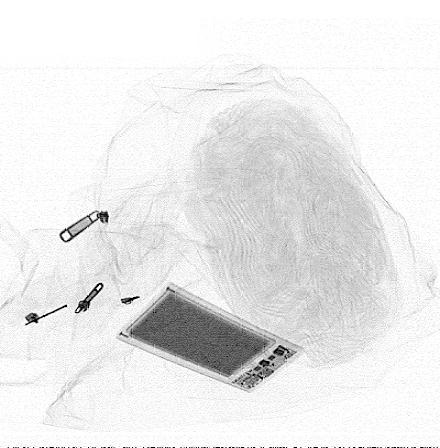Powerbank: (116, 281, 304, 393)
